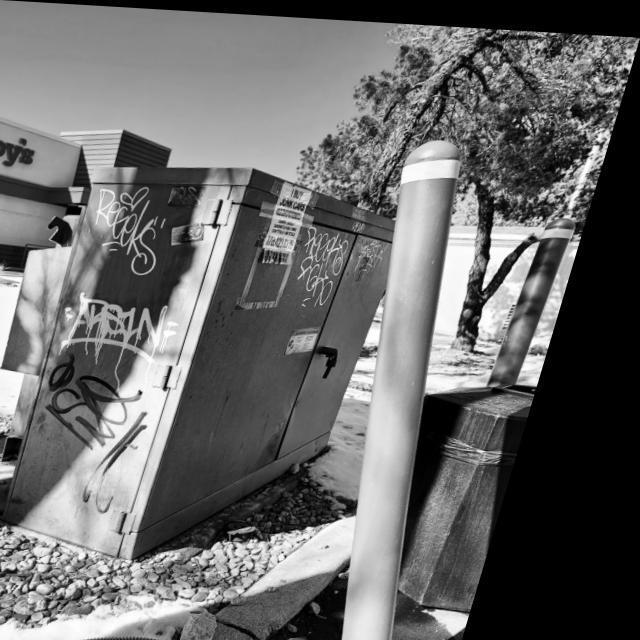-: (32, 350, 199, 522), (82, 168, 198, 280), (63, 284, 214, 370), (295, 216, 414, 312)
